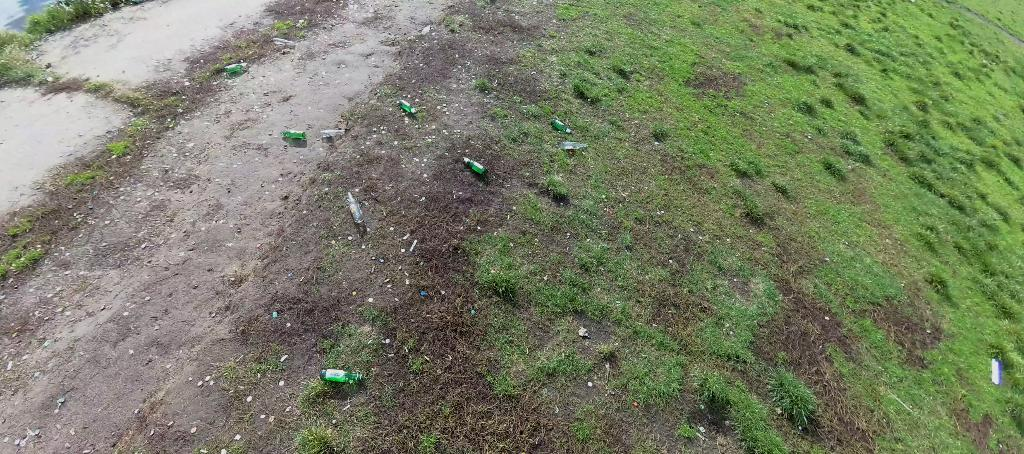garbage: (320, 364, 368, 392), (344, 188, 367, 228), (461, 152, 487, 177), (276, 127, 307, 143), (319, 127, 348, 138)
